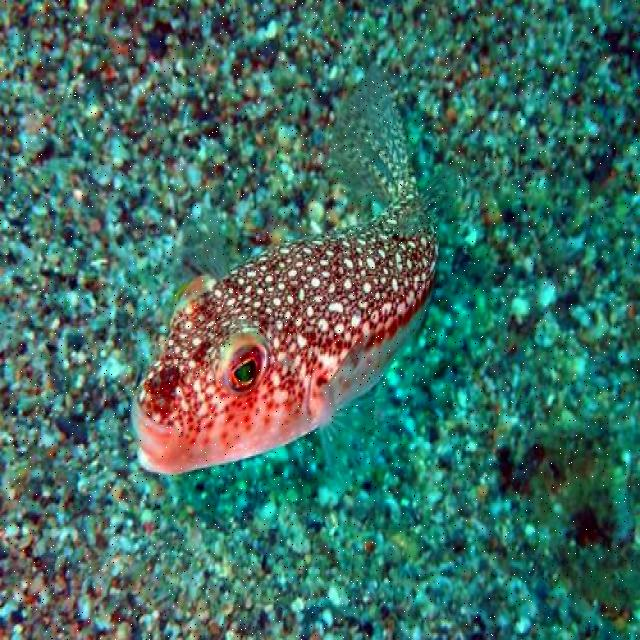Balik: (132, 68, 437, 473)
